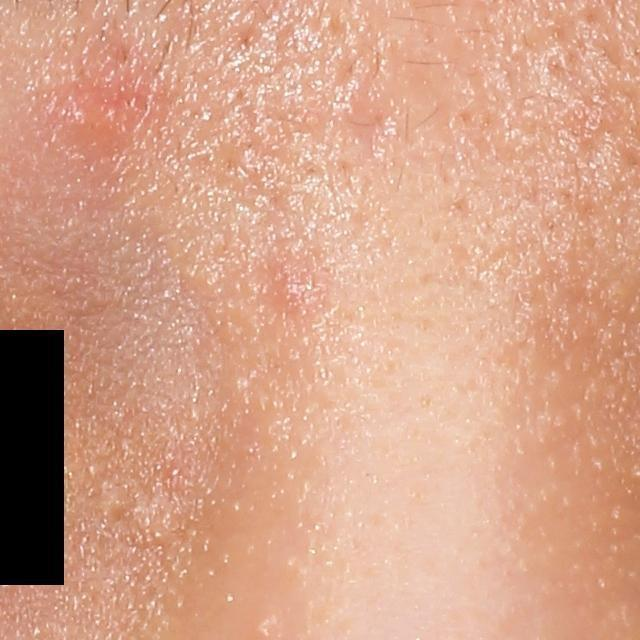comedo: (250, 612, 268, 637)
